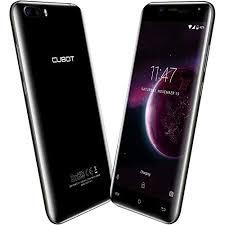Smartphone: (98, 3, 222, 224), (18, 3, 114, 223)
